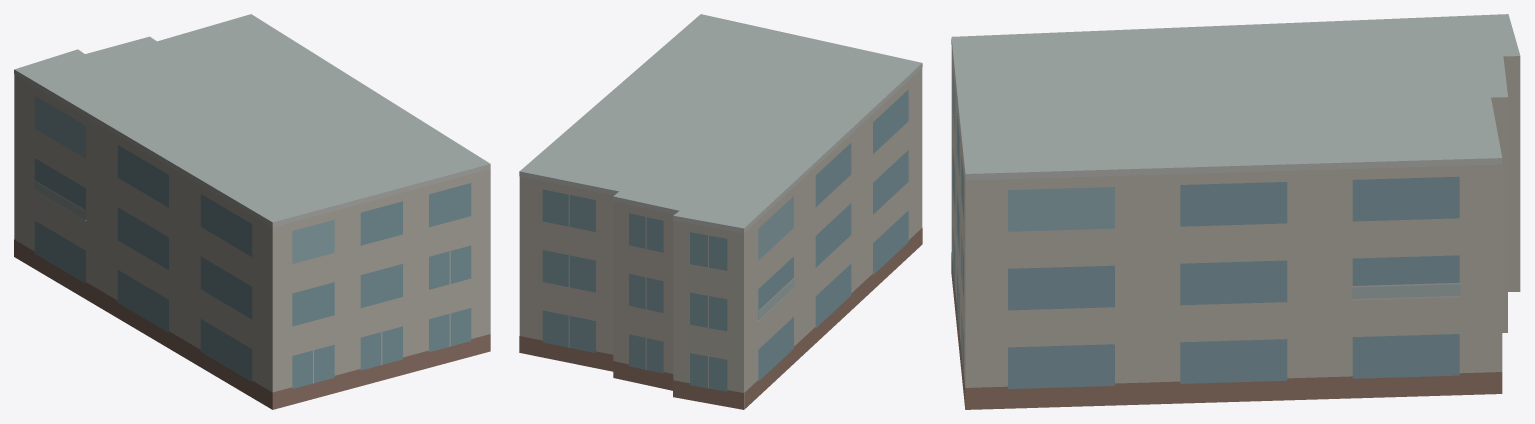
Rendered from survey-upis-32955281.glb.
The picture shows the model from 3 angles, left to right: view 1: azimuth 30°, elevation 25°; view 2: azimuth 150°, elevation 25°; view 3: azimuth 270°, elevation 25°; orthographic projection. The views are drawn at different scales.
Visible parts, largest first — view 1: survey-upis-32955281.tmp; view 2: survey-upis-32955281.tmp; view 3: survey-upis-32955281.tmp.
Boxes of the visible parts, box(x1,y1,x2,y2) form: survey-upis-32955281.tmp: box(14, 14, 490, 409); survey-upis-32955281.tmp: box(519, 14, 922, 409); survey-upis-32955281.tmp: box(951, 14, 1520, 409).
Bounding box in the file's own units: 13.32 × 9.15 × 20.02.
